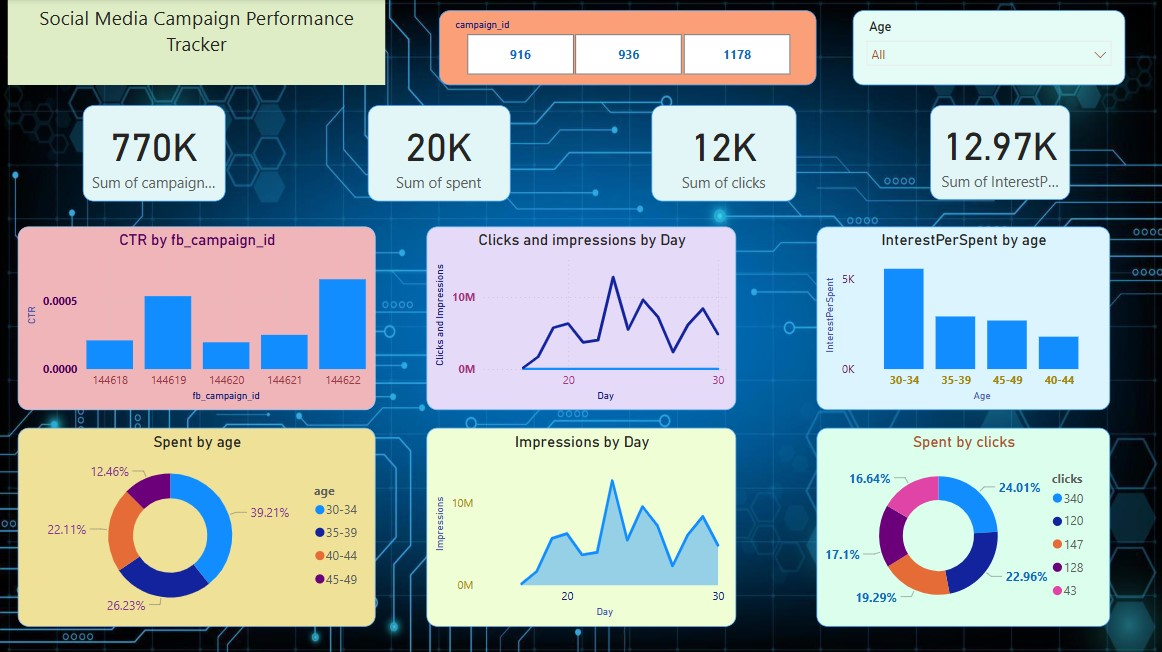

This screenshot's page, from the dashboard's own definition file:
{"tool":"powerbi","page":{"name":"Page 1","canvas":[1280,720],"ordinal":0},"visuals":[{"type":"textbox","box":[9.6,0,414.4,94.7],"z":0},{"type":"columnChart","title":"CTR by fb_campaign_id","fields":{"Category":["data.fb_campaign_id"],"Y":["Sum(data.CTR)"]},"box":[20.6,249.7,392.5,201.7],"z":1000},{"type":"donutChart","title":"Spent by age","fields":{"Category":["data.age"],"Y":["Sum(data.spent)"]},"box":[20.6,470.7,392.5,218.2],"z":2000},{"type":"stackedAreaChart","title":"Impressions by Day","fields":{"Y":["Sum(data.impressions)"],"Category":["data.reporting_end.Variation.Date Hierarchy.Day"]},"box":[469.3,470.7,340.3,218.2],"z":3000},{"type":"lineChart","title":"Clicks and impressions by Day","fields":{"Category":["data.reporting_start.Variation.Date Hierarchy.Day"],"Y":["Sum(data.clicks)","Sum(data.impressions)"]},"box":[469.3,249.7,340.3,201.7],"z":4000},{"type":"donutChart","title":"Spent by clicks","fields":{"Category":["data.clicks"],"Y":["Sum(data.spent)"]},"box":[897.4,470.7,322.5,218.2],"z":5000},{"type":"columnChart","title":"InterestPerSpent by age","fields":{"Category":["data.age"],"Y":["Sum(data.InterestPerRupee)"]},"box":[897.4,249.7,322.5,201.7],"z":6000},{"type":"slicer","fields":{"Values":["data.age"]},"box":[937.2,12.3,299.1,82.3],"z":7000},{"type":"slicer","fields":{"Values":["data.campaign_id"]},"box":[483,12.3,414.4,82.3],"z":8000},{"type":"card","fields":{"Values":["Sum(data.campaign_id)"]},"box":[91.9,116.6,156.4,105.7],"z":9000},{"type":"card","fields":{"Values":["Sum(data.spent)"]},"box":[404.8,116.6,156.4,105.7],"z":10000},{"type":"card","fields":{"Values":["Sum(data.clicks)"]},"box":[716.3,116.6,159.2,105.7],"z":11000},{"type":"card","fields":{"Values":["Sum(data.InterestPerSpent)"]},"box":[1022.3,116.6,153.7,104.3],"z":12000}]}

Visuals, with their boxes in screenshot pixels (x1, y1, x2, y2), scaled from the page's 1280x720 canvas onto the 1162x652 screenshot:
textbox: select_region(9, 0, 385, 86)
"CTR by fb_campaign_id" columnChart: select_region(19, 226, 375, 409)
"Spent by age" donutChart: select_region(19, 426, 375, 624)
"Impressions by Day" stackedAreaChart: select_region(426, 426, 735, 624)
"Clicks and impressions by Day" lineChart: select_region(426, 226, 735, 409)
"Spent by clicks" donutChart: select_region(815, 426, 1107, 624)
"InterestPerSpent by age" columnChart: select_region(815, 226, 1107, 409)
slicer - data.age: select_region(851, 11, 1122, 86)
slicer - data.campaign_id: select_region(438, 11, 815, 86)
card - Sum(data.campaign_id): select_region(83, 106, 225, 201)
card - Sum(data.spent): select_region(367, 106, 509, 201)
card - Sum(data.clicks): select_region(650, 106, 795, 201)
card - Sum(data.InterestPerSpent): select_region(928, 106, 1068, 200)
